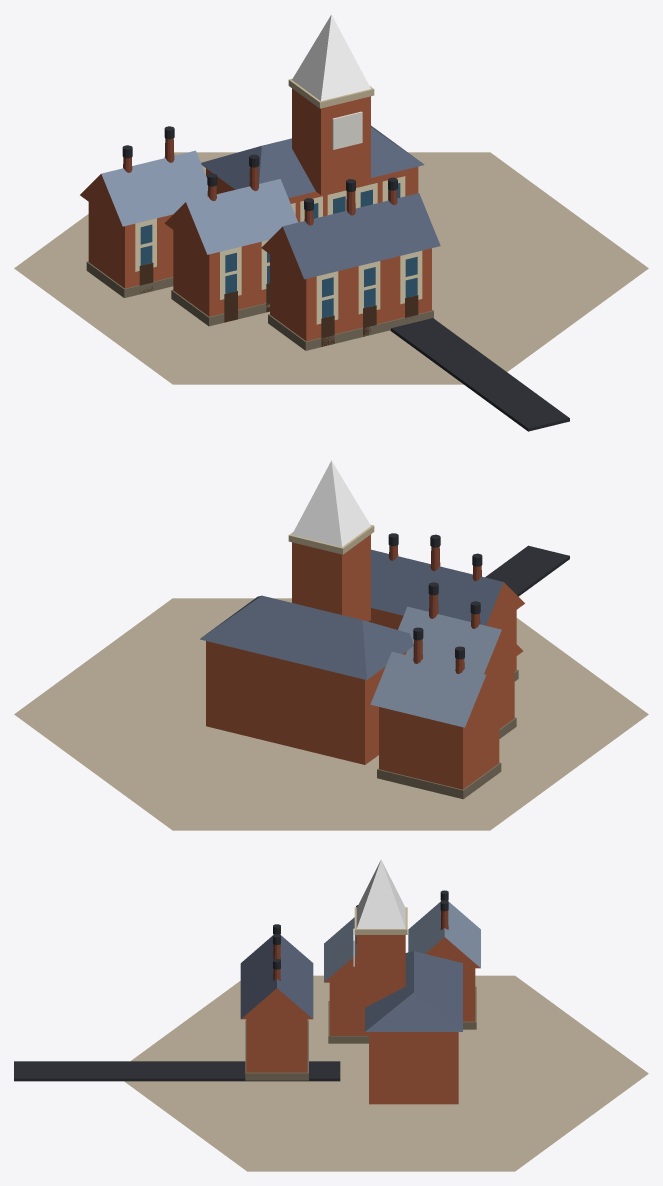
File: city_2_1.fbx
The picture shows the model from 3 angles, top to bottom: view 1: azimuth 30°, elevation 25°; view 2: azimuth 150°, elevation 25°; view 3: azimuth 270°, elevation 25°; orthographic projection. The views are drawn at different scales.
Parts seen in each view (by area): view 1: city_2_1; view 2: city_2_1; view 3: city_2_1.
Part boxes in pixels (x1,y1,x2,y2): city_2_1: [14, 14, 648, 431]; city_2_1: [14, 460, 648, 830]; city_2_1: [14, 859, 648, 1171].
Size of the model in its own units: 182 by 92.72 by 249.
